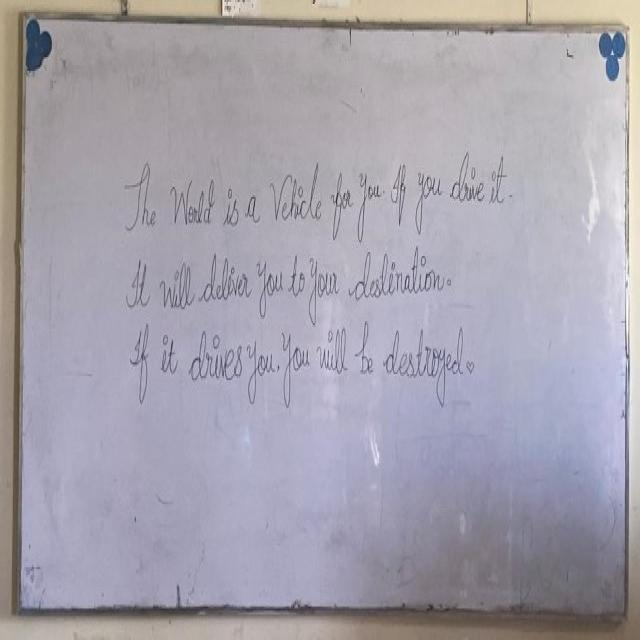White-board: (20, 17, 626, 623)
